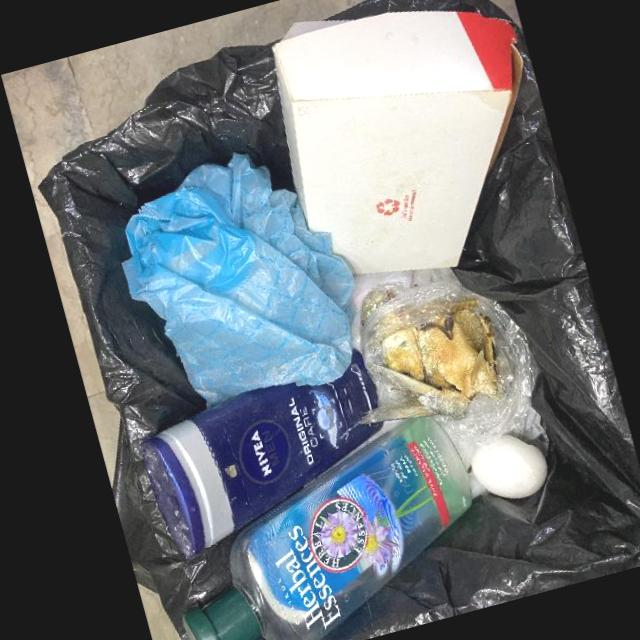carton: (272, 9, 523, 275)
hop_nhua: (182, 418, 473, 640), (141, 349, 384, 560)
thuc_an_thua: (359, 277, 501, 424)
tui_ni_long: (122, 155, 356, 407), (351, 268, 535, 444)
vo_trung: (471, 434, 548, 499)
